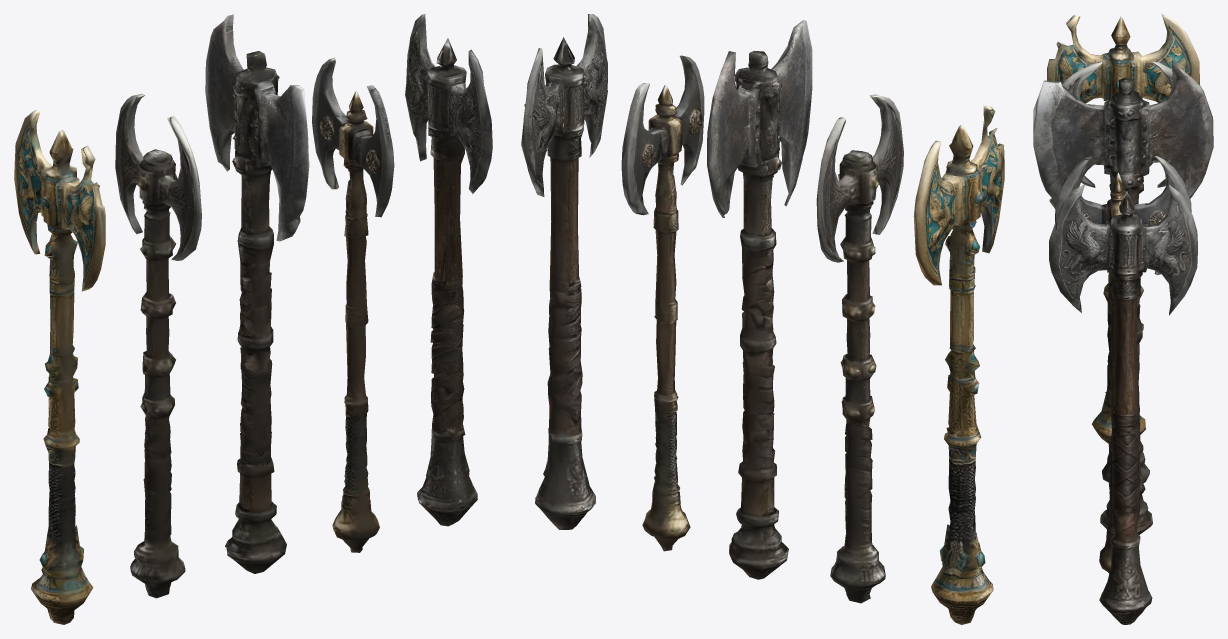
File: weapons_axes_double.glb
3 views of the same model, side by side, from view 1: azimuth 30°, elevation 25°; view 2: azimuth 150°, elevation 25°; view 3: azimuth 270°, elevation 25° (orthographic). The views are drawn at different scales.
Parts seen in each view (by area): view 1: axe2_great, axe2_battle, axe2_golden, axe2_crescent, axe2_labrys; view 2: axe2_great, axe2_battle, axe2_golden, axe2_crescent, axe2_labrys; view 3: axe2_battle, axe2_great, axe2_golden, axe2_labrys, axe2_crescent.
Part boxes in pixels (x1,y1,x2,y2): axe2_great: (205, 14, 309, 573); axe2_battle: (405, 14, 492, 526); axe2_golden: (14, 110, 105, 624); axe2_crescent: (115, 93, 201, 598); axe2_labrys: (312, 57, 394, 552); axe2_great: (707, 20, 812, 579); axe2_battle: (521, 14, 607, 529); axe2_golden: (913, 105, 1004, 624); axe2_crescent: (816, 94, 903, 603); axe2_labrys: (621, 55, 704, 551); axe2_battle: (1049, 184, 1197, 624); axe2_great: (1033, 61, 1213, 534); axe2_golden: (1047, 14, 1199, 444); axe2_labrys: (1055, 155, 1191, 573); axe2_crescent: (1062, 61, 1172, 482).
Size of the model in its own units: 0.5489 by 0.6381 by 0.2182.
Materials: 1 (1 with a texture image).
